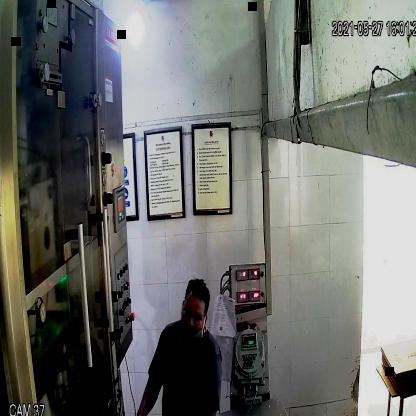goggles: (176, 303, 210, 327)
